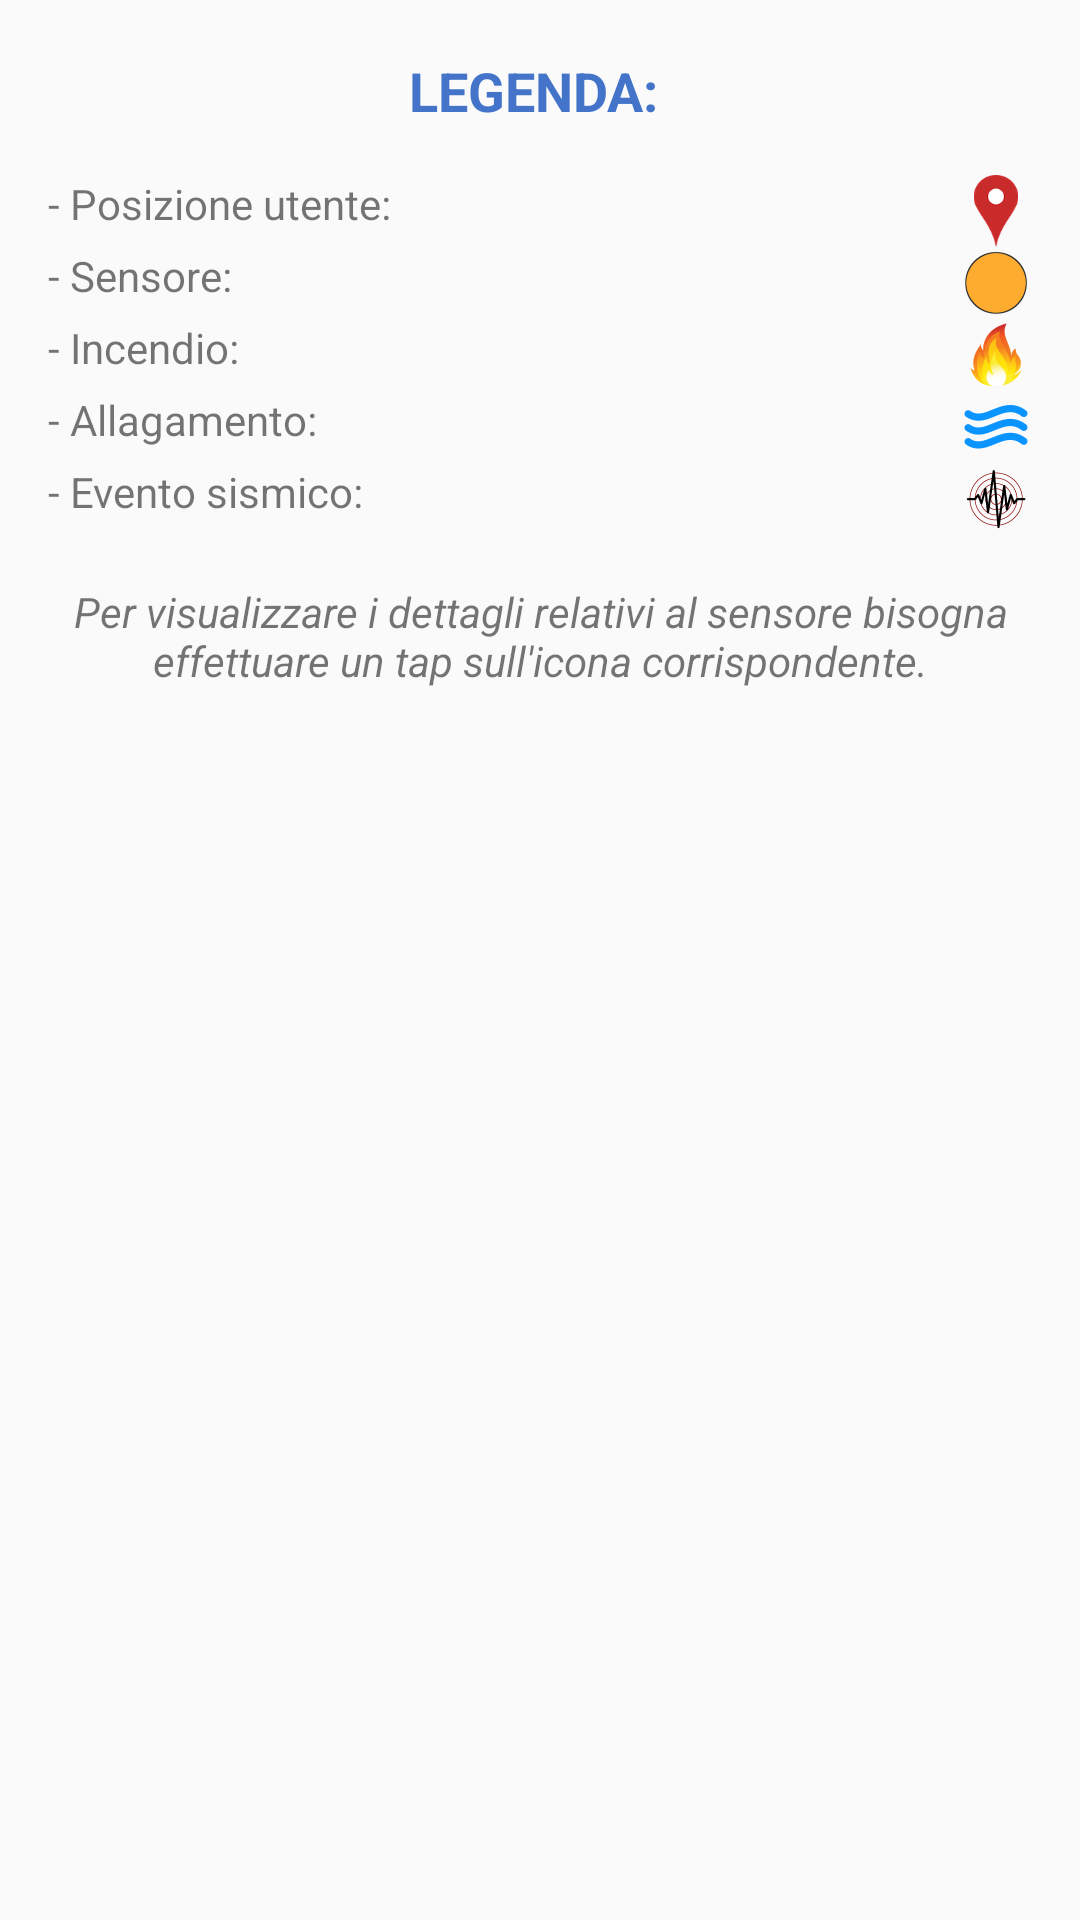

Screen size 1080px×1920px. Icon name, then its box in pixels as [x1=x1, y1=y1, x2=x2, y2=y2]:
earthquake: [x1=967, y1=470, x2=1026, y2=528]
fire: [x1=970, y1=323, x2=1022, y2=387]
marker: [x1=974, y1=175, x2=1018, y2=247]
water: [x1=964, y1=405, x2=1028, y2=449]
